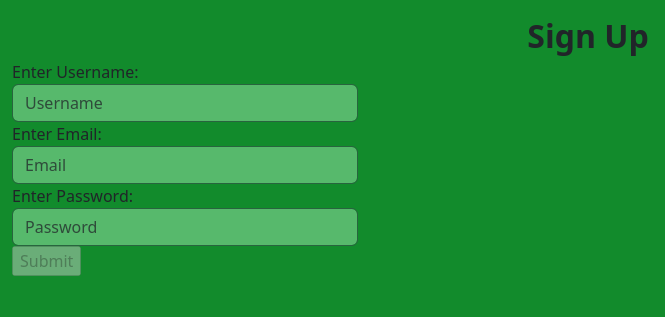
Test case: SignUp form tests › username tests › should show invalid username message when username input is dirty and invalid
Click the field with placeholder "Username".
click(185, 103)  # box top-left (12, 84), bottom-right (358, 122)
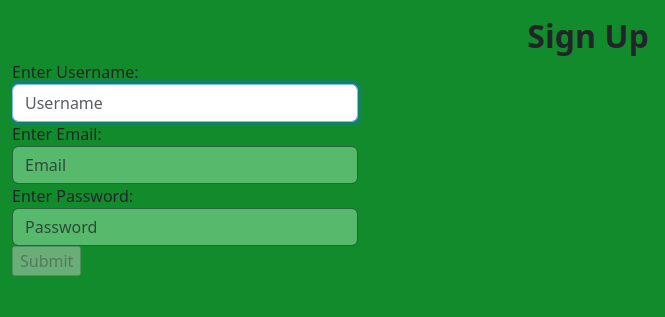
Click the password field with placeholder "Password".
click(185, 227)  # box top-left (12, 208), bottom-right (358, 246)
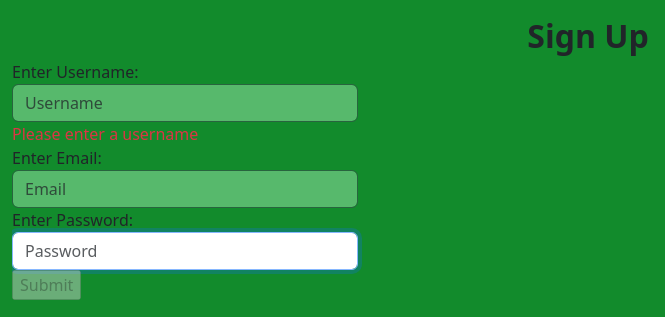
Expected: the text "Please enter a username" is shown, top-left (12, 123), bottom-right (198, 145)
